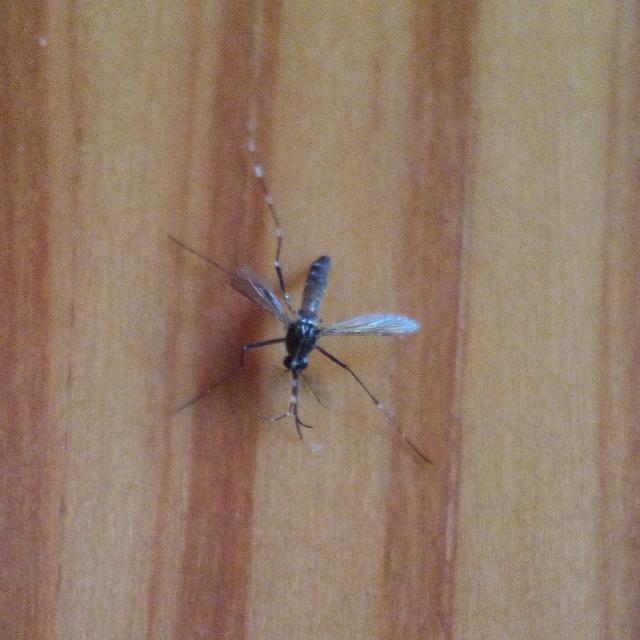albopictus: (154, 202, 435, 454)
